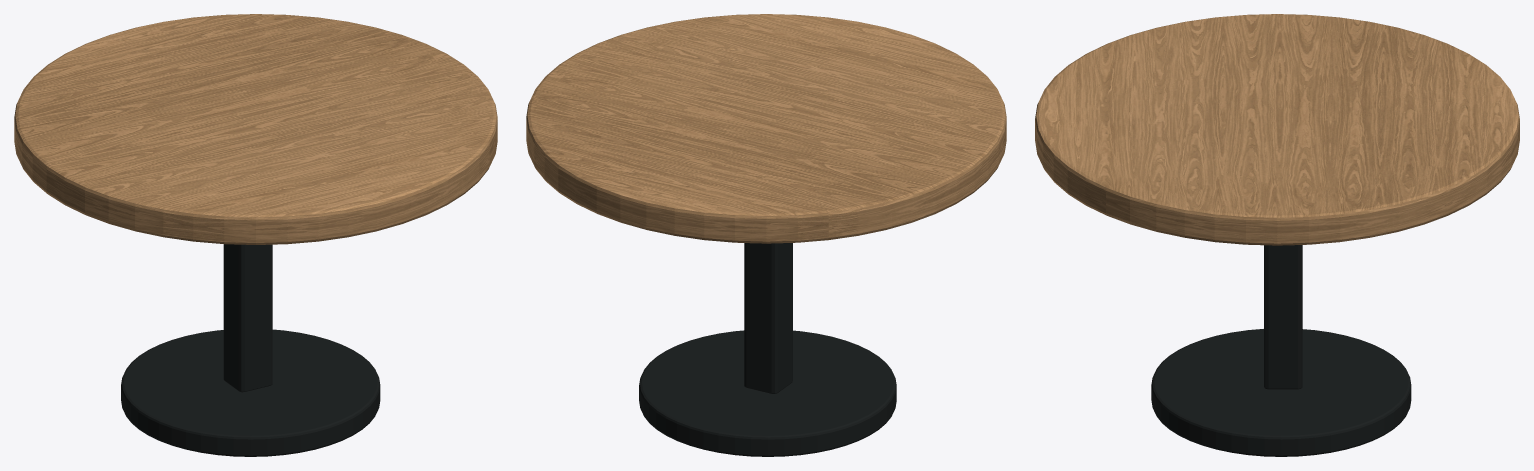
File: hiperreal-hd.glb
The picture shows the model from 3 angles, left to right: view 1: azimuth 30°, elevation 25°; view 2: azimuth 150°, elevation 25°; view 3: azimuth 270°, elevation 25°; orthographic projection.
Parts seen in each view (by area): view 1: starbucksTable_2, starbucksTable_0, starbucksTable_1; view 2: starbucksTable_2, starbucksTable_0, starbucksTable_1; view 3: starbucksTable_2, starbucksTable_0, starbucksTable_1.
Boxes of the visible parts, box(x1,y1,x2,y2) form: starbucksTable_2: box(14, 14, 497, 244); starbucksTable_0: box(121, 329, 380, 456); starbucksTable_1: box(223, 244, 272, 392); starbucksTable_2: box(526, 14, 1006, 243); starbucksTable_0: box(639, 330, 896, 456); starbucksTable_1: box(744, 243, 792, 393); starbucksTable_2: box(1035, 14, 1519, 245); starbucksTable_0: box(1151, 329, 1411, 456); starbucksTable_1: box(1264, 245, 1302, 389).
Size of the model in its own units: 1.25 by 0.825 by 1.25.
2 materials, 1 textured.
